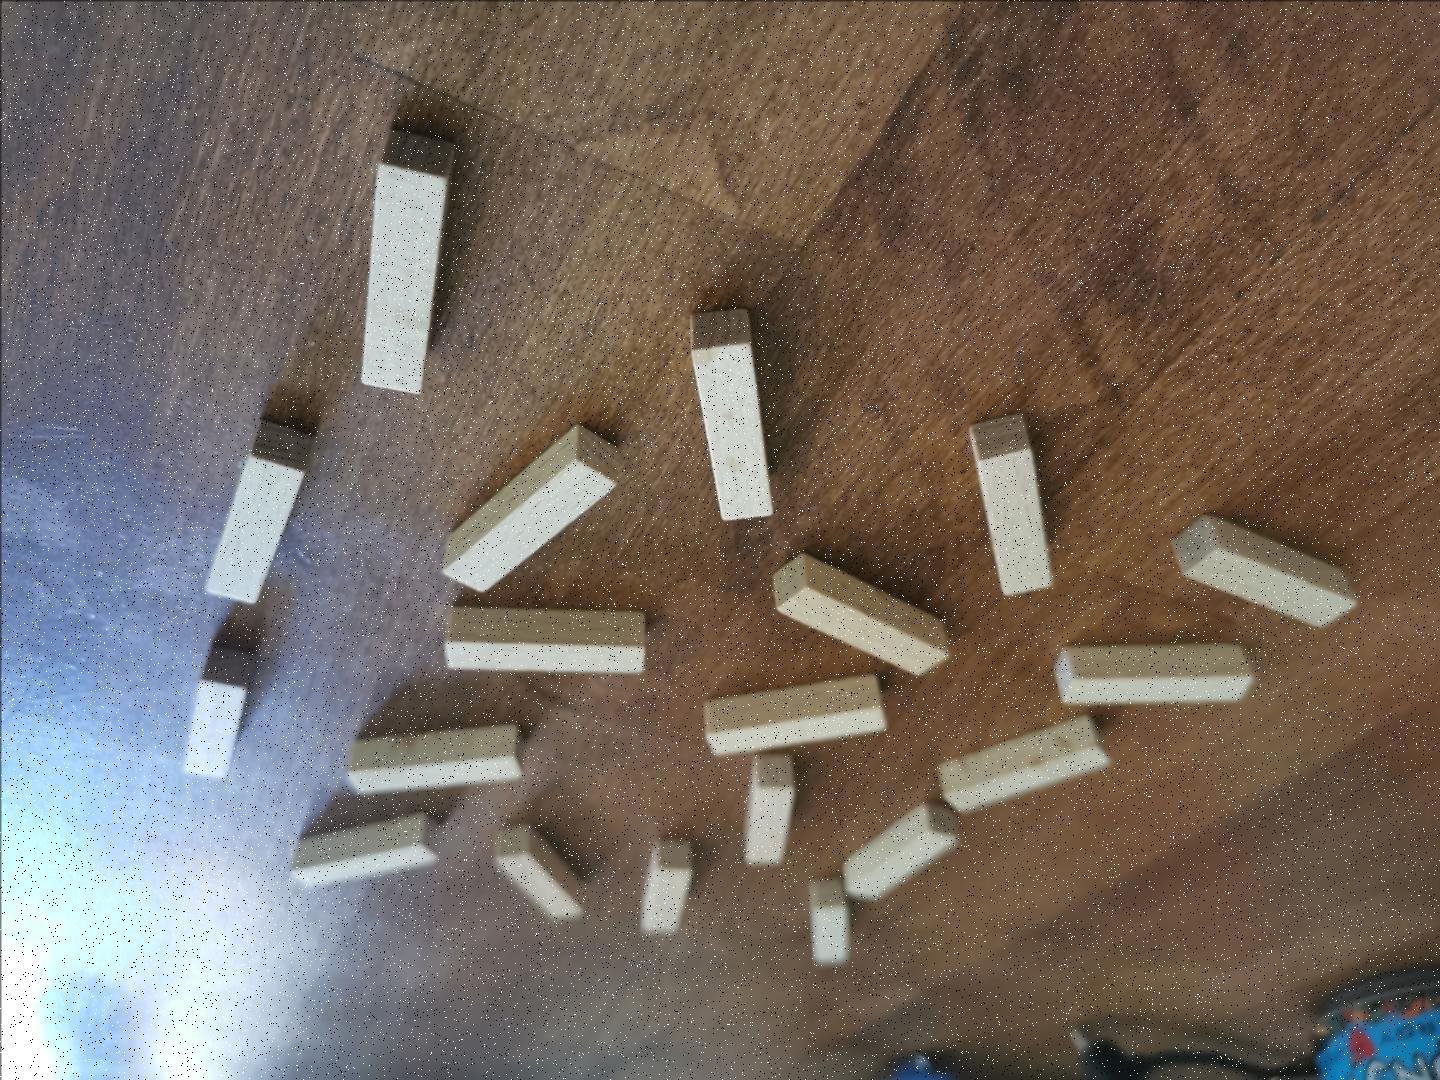jenga: (441, 424, 619, 591), (361, 129, 452, 394), (773, 554, 948, 675), (1172, 515, 1356, 624), (205, 419, 312, 602), (689, 306, 771, 521), (937, 715, 1111, 812), (971, 413, 1052, 593), (703, 675, 886, 753), (444, 605, 644, 673), (1054, 641, 1252, 703), (346, 723, 520, 793), (841, 802, 956, 900), (289, 812, 439, 886), (183, 647, 256, 776), (492, 824, 585, 920), (743, 753, 793, 867), (638, 838, 692, 934), (807, 878, 849, 964)
